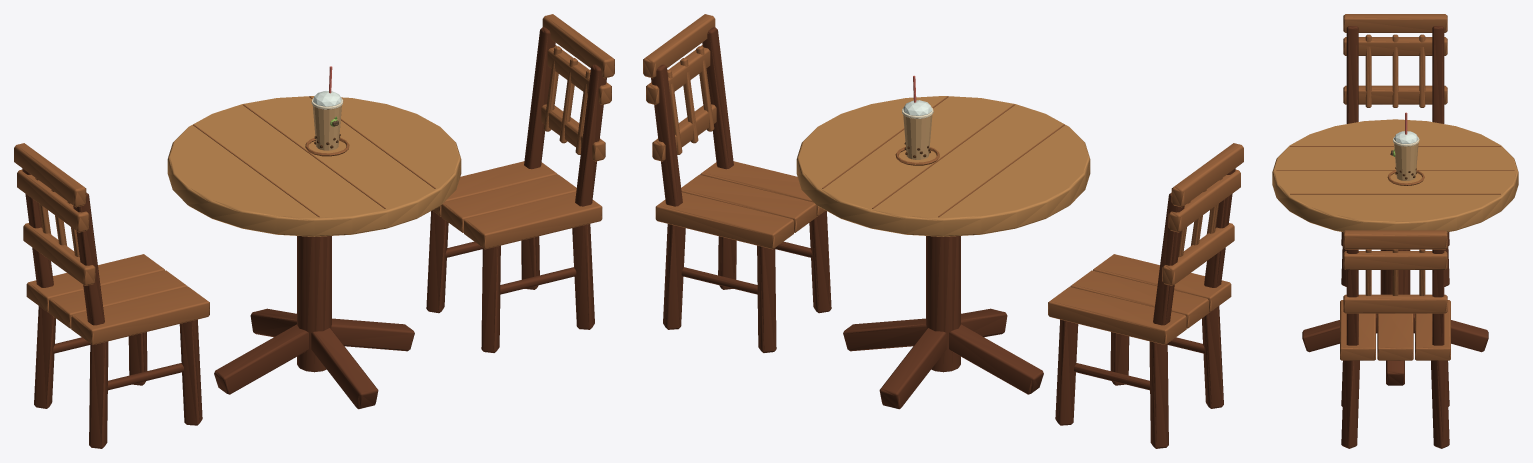
The model's file is round_table_set.fbx.
3 views of the same model, side by side, from view 1: azimuth 30°, elevation 25°; view 2: azimuth 150°, elevation 25°; view 3: azimuth 270°, elevation 25° (orthographic). The views are drawn at different scales.
Visible parts, largest first — view 1: round_table_set; view 2: round_table_set; view 3: round_table_set.
Part boxes in pixels (<box>): round_table_set: <box>14,14,614,448</box>; round_table_set: <box>643,14,1243,448</box>; round_table_set: <box>1272,14,1518,448</box>.
Bounding box in the file's own units: 196 × 101 × 92.
